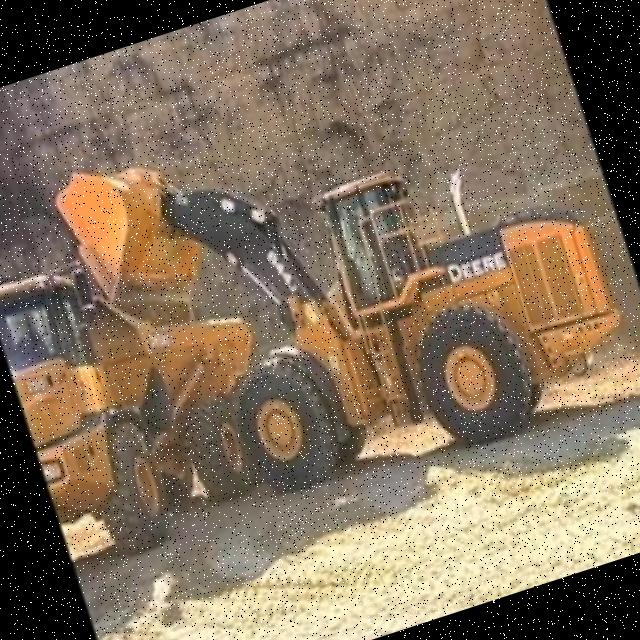Dump Truck: (0, 214, 302, 573)
Loader: (47, 23, 640, 548)
